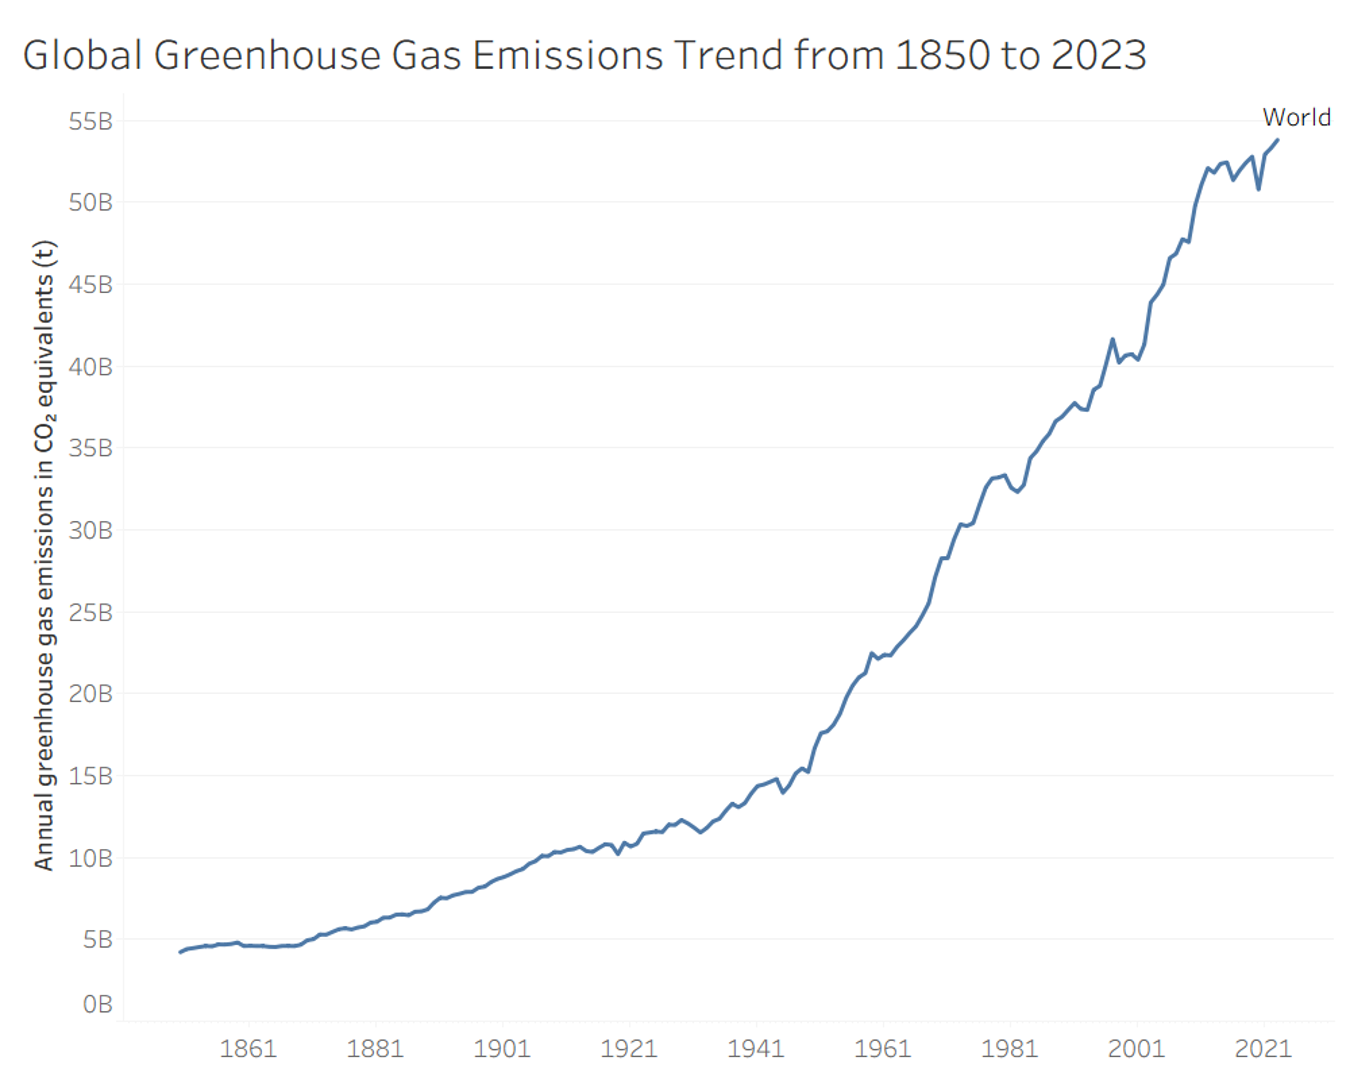

This screenshot's page, from the dashboard's own definition file:
{"tool":"tableau","page":{"name":"Dashboard 13","canvas":[1000,800],"ordinal":1},"visuals":[{"type":"worksheet","title":"Global Greenhouse Gas Emissions Trend from 1850 to 2023","mark":"Automatic","rows":["Annual greenhouse gas emissions in CO₂ equivalents"],"cols":["Year"],"box":[8,8,984,784]}]}

Visuals, with their boxes in screenshot pixels (x1, y1, x2, y2), scaled from the page's 1000x800 canvas onto the 1350x1080 screenshot:
"Global Greenhouse Gas Emissions Trend from 1850 to 2023" worksheet: (x1=11, y1=11, x2=1339, y2=1069)
